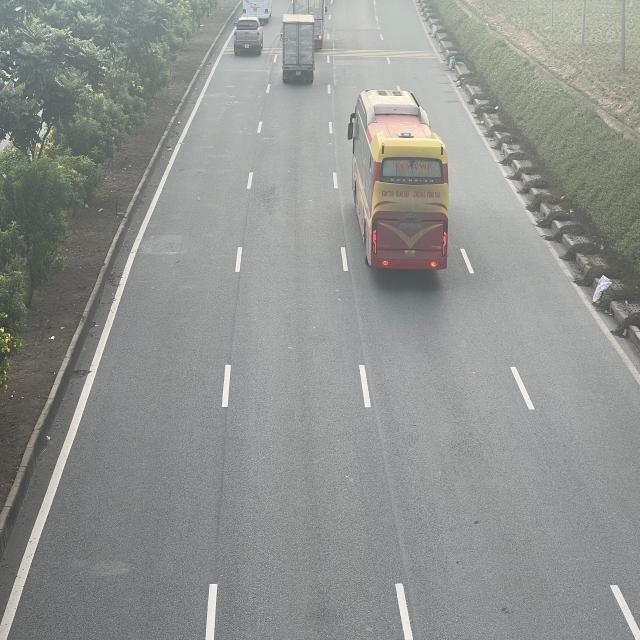car: (234, 18, 266, 56)
coach: (347, 86, 451, 272)
truck: (280, 15, 316, 83)
